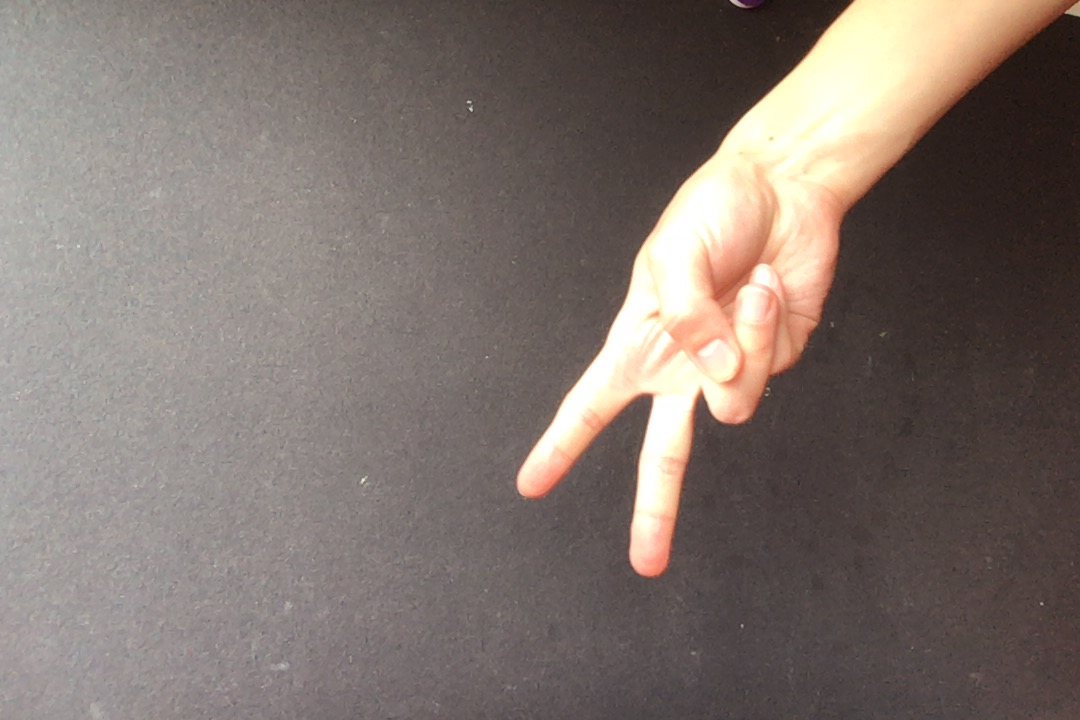peacesign: (507, 153, 846, 587)
